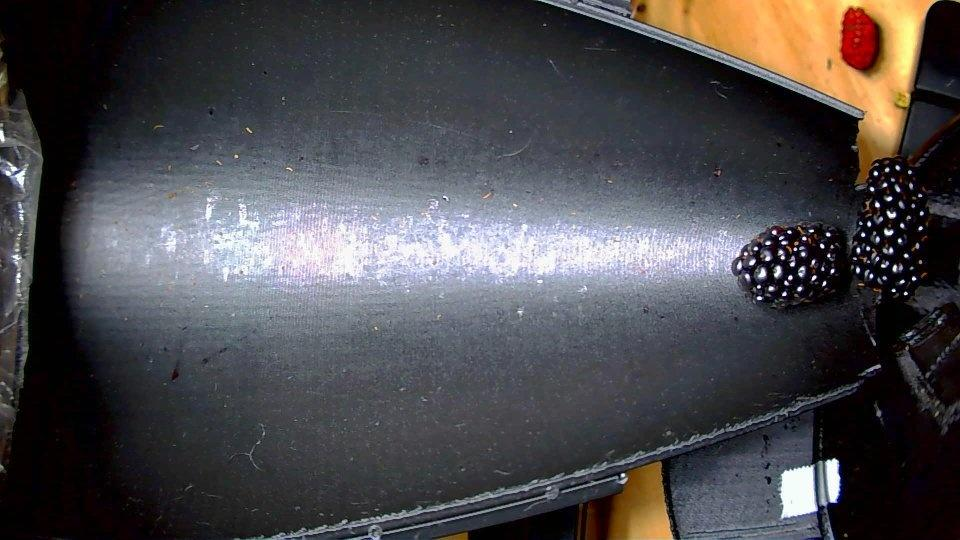berry: (850, 156, 928, 298), (731, 223, 844, 307), (839, 7, 879, 69)
